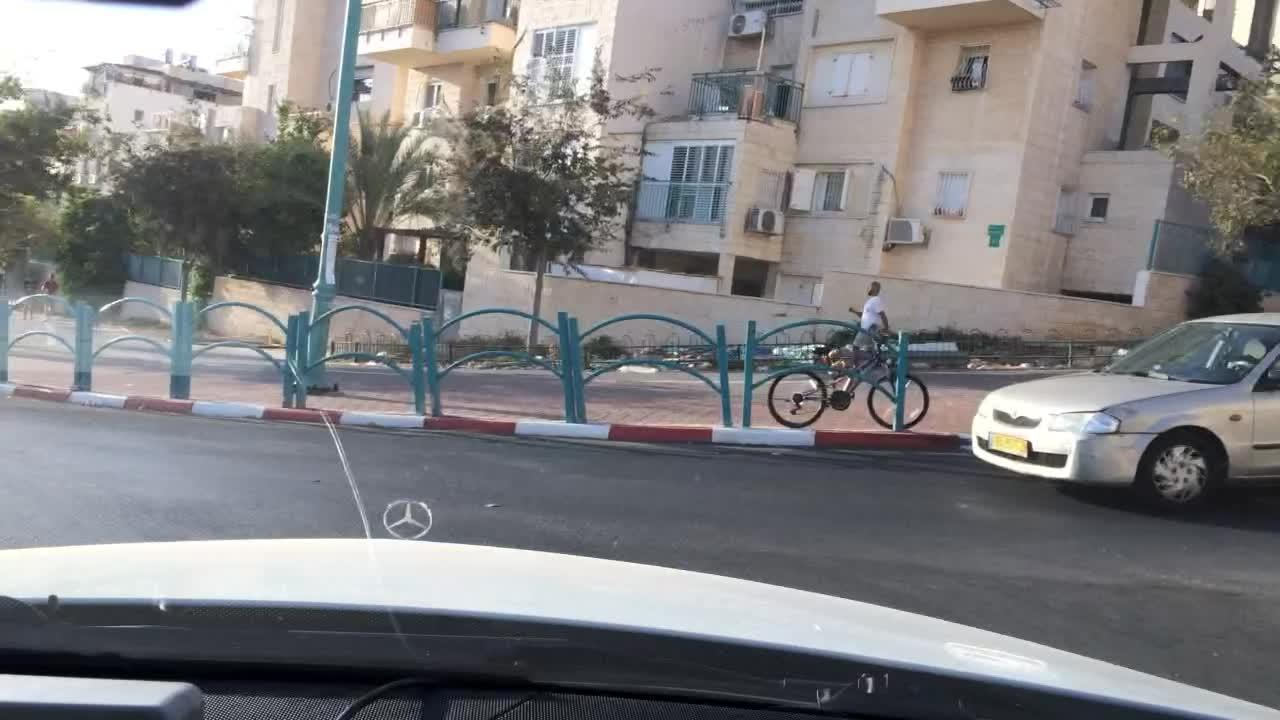Mercedes: (376, 487, 444, 556)
